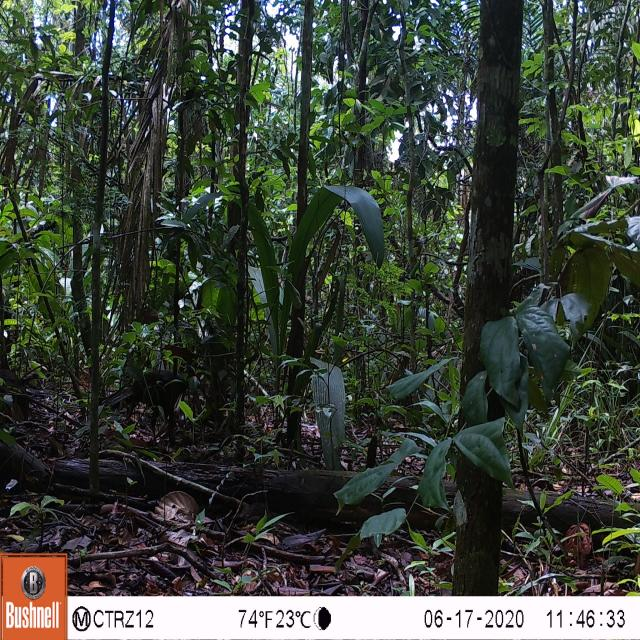Spixs Guan: (86, 341, 217, 449)
